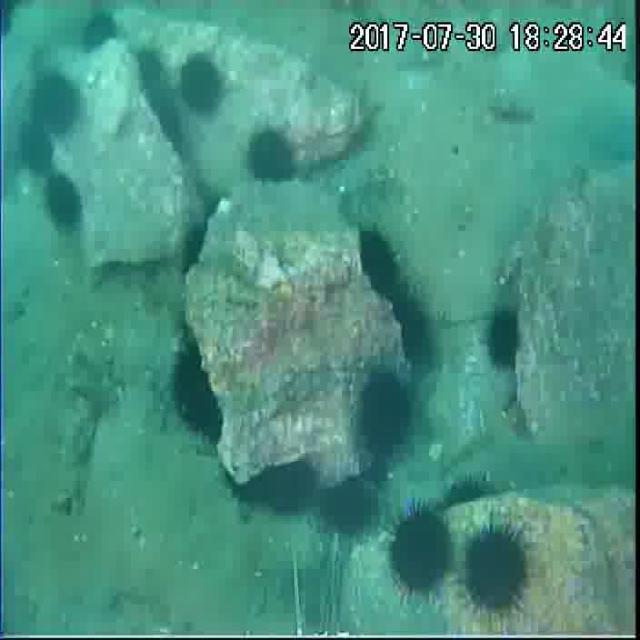echinus: (386, 500, 456, 606), (220, 447, 316, 518), (169, 333, 226, 448), (356, 357, 414, 468), (462, 522, 530, 616), (314, 473, 384, 541), (387, 289, 435, 368), (28, 70, 81, 139), (357, 228, 402, 300), (246, 124, 298, 186), (176, 50, 224, 116), (40, 172, 87, 239), (146, 87, 188, 152), (15, 116, 56, 176), (438, 472, 492, 517), (484, 306, 521, 371), (138, 44, 166, 96), (180, 218, 210, 266), (84, 13, 122, 49)
